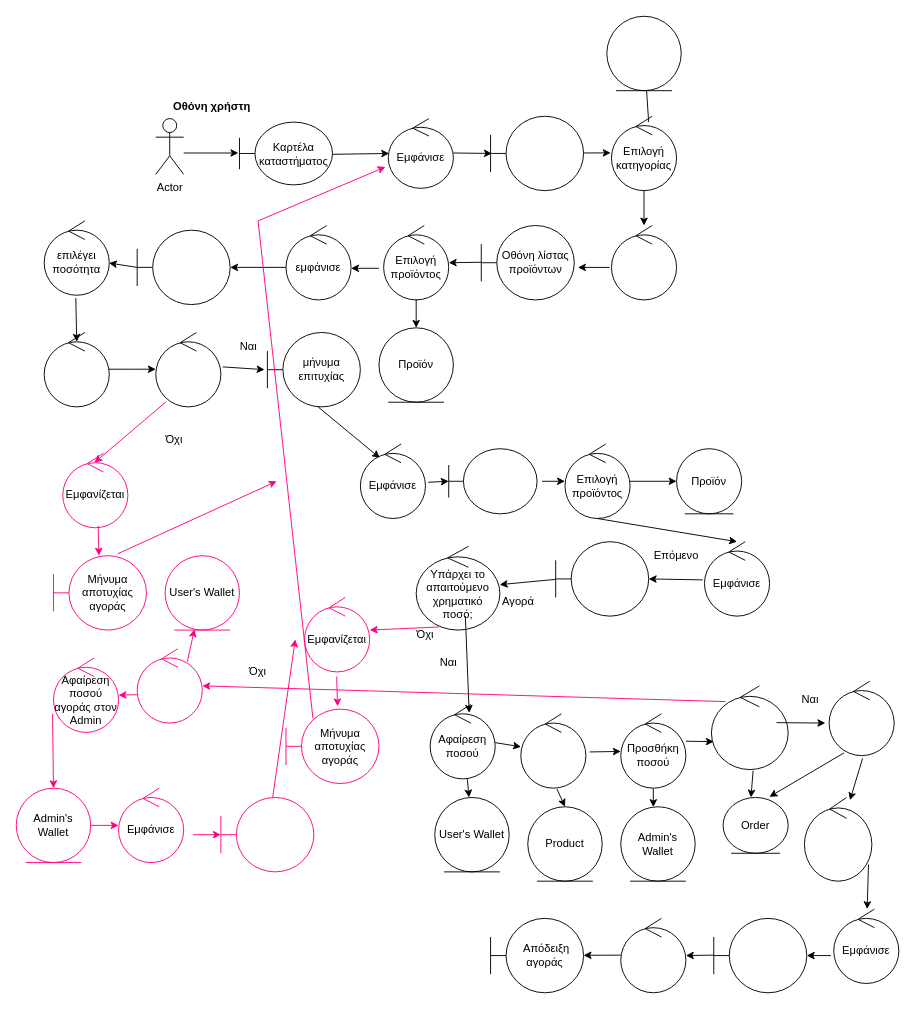
This 915x1018 diagram has some shape labels left out. The centre of each missing label's shape, as x and y in pixels:
"Έγινε η αποθήκευση παραγγελίας;" belongs at (749,727).
"Αφαίρεση ποσότητας προϊόντος από βάση" belongs at (838,839).
"Αφαίρεση προϊόντος από καλάθι αγοράς" belongs at (553,750).
"Δίνεται κωδικός" belongs at (861,718).
"επιλογή προσθήκης στο καλάθι" belongs at (76,369).
"Κατηγορία" belongs at (643,53).
"Λήψη προϊόντων" belongs at (644,262).
"Μήνυμα αποτυχημένης υποβολής" belongs at (267,834).
"Μήνυμα επιτυχίας αγοράς" belongs at (760,955).
"Οθόνη επιλογής κατηγορίας" belongs at (537,153).
"Οθόνη καλαθιού αγοράς" belongs at (492,481).
"Οθόνη προϊόντος" belongs at (183,267).
"Προσθήκη ποσού αγοράς στο χρήστη" belongs at (169,685).
"Στέλνει απόδειξη αγοράς" belongs at (653,955).
"Υπάρχει η ζητούμενη ποσότητα;" belongs at (188,369).
"Φόρμα αποστολής" belongs at (602,578).
